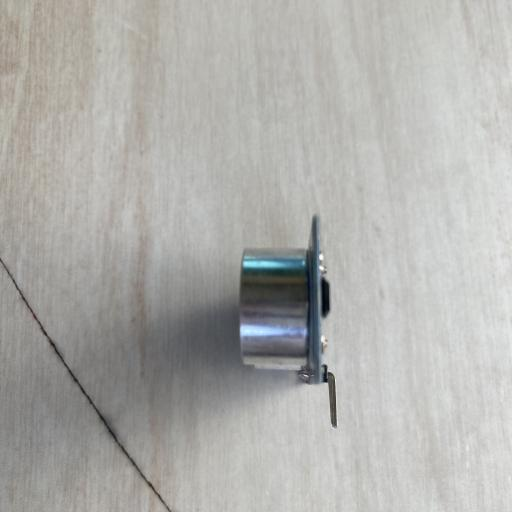Ultrasonic Sensor: (238, 214, 339, 428)
